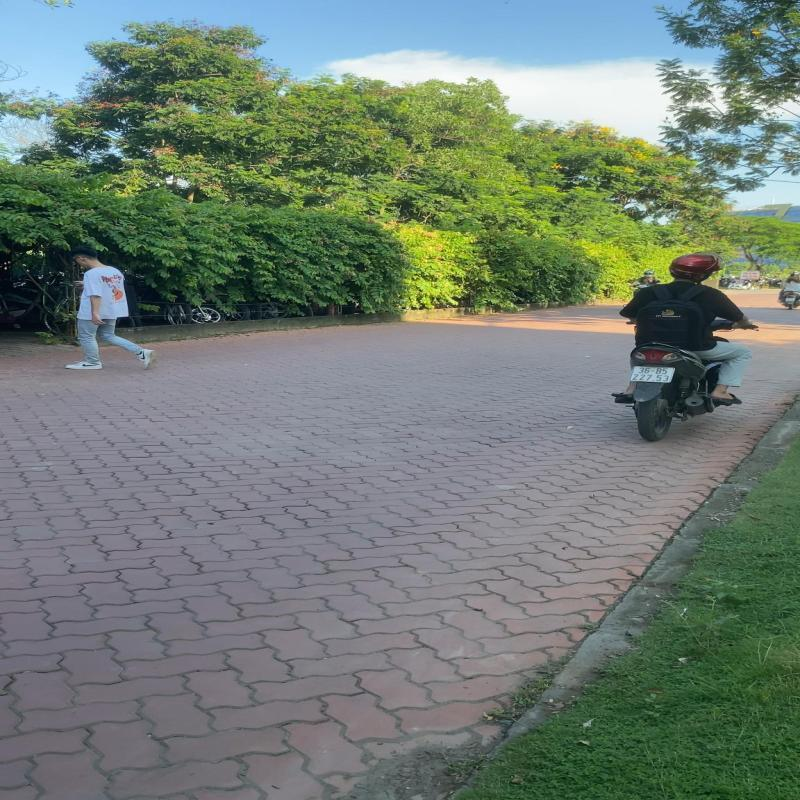helmet: (670, 250, 726, 284)
licenseplate: (629, 366, 677, 384)
motorcyclist: (607, 248, 764, 443)
